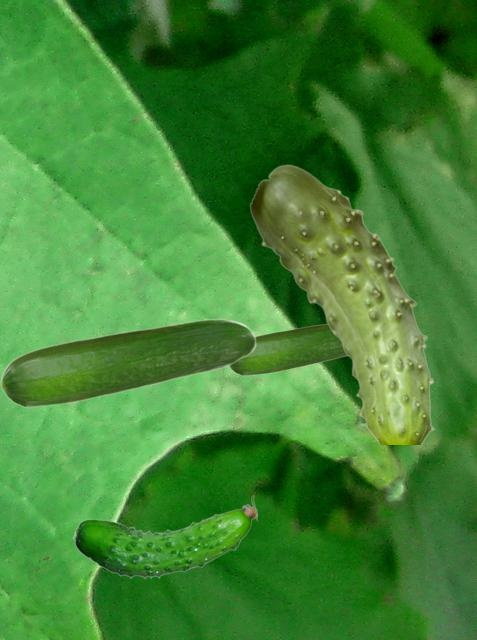cucumber: (249, 164, 434, 443), (0, 318, 255, 407), (72, 495, 256, 578), (229, 323, 346, 375)
